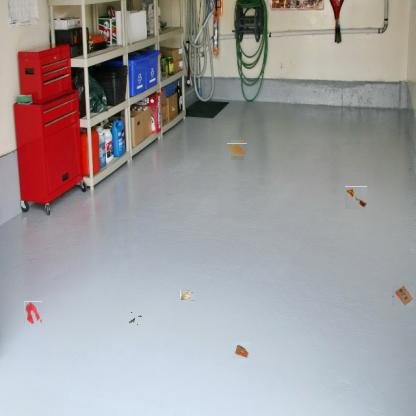dirty: (345, 187, 368, 209), (392, 285, 414, 307), (232, 341, 250, 360), (129, 311, 141, 325), (180, 290, 195, 300)
liquid: (24, 301, 42, 324), (229, 142, 246, 158)
